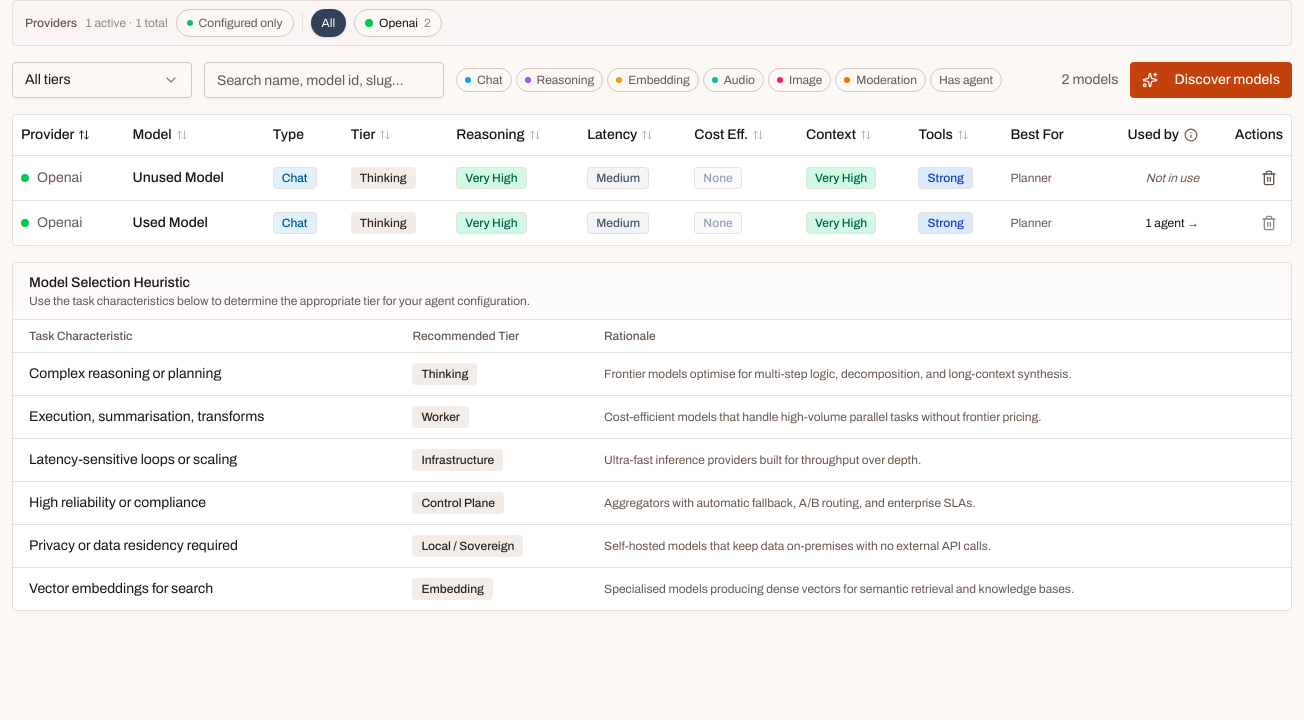
Test: ProviderModelsMatrix › "Has agent" toggle hides rows that have no bound agents
The image size is (1304, 720).
Click the button with aria-label "show only models with at least one bound agent". click: x=966, y=80
box: [930,68,1002,92]
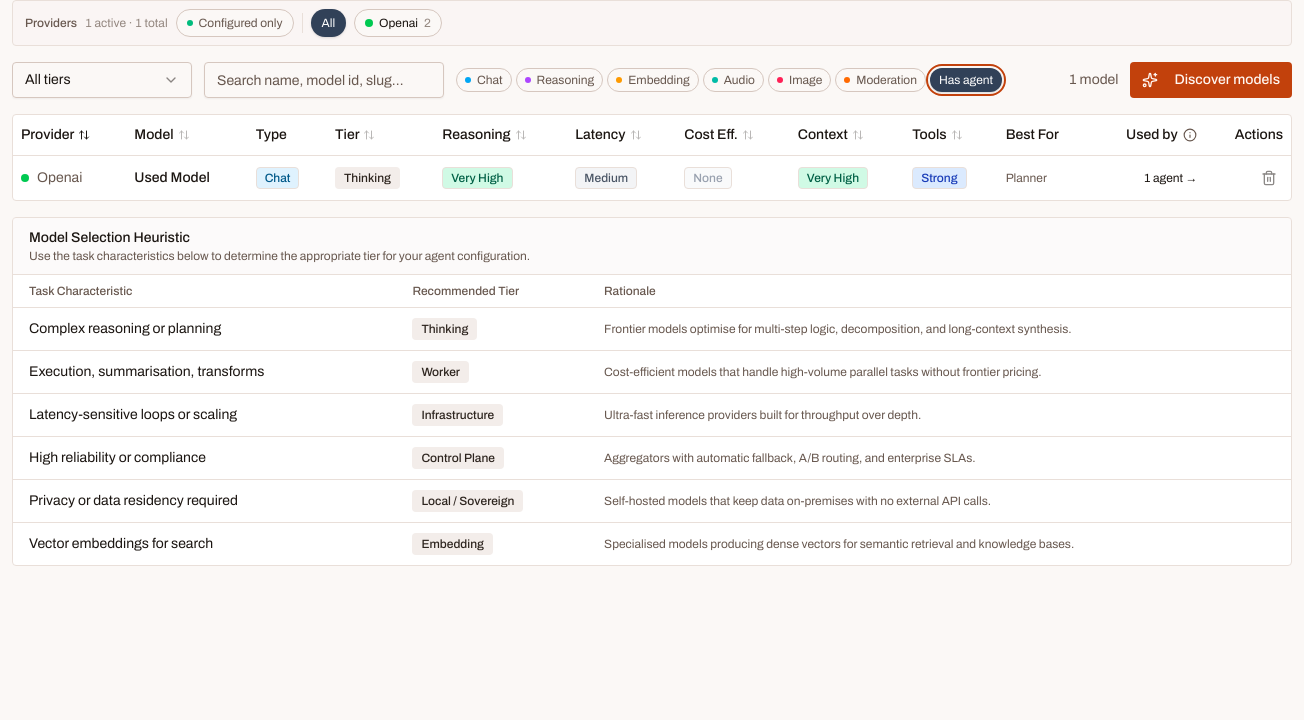
Expected: the link "Used Model" is shown, [134,170,210,184]
Expected: the link "Unused Model" is gone
